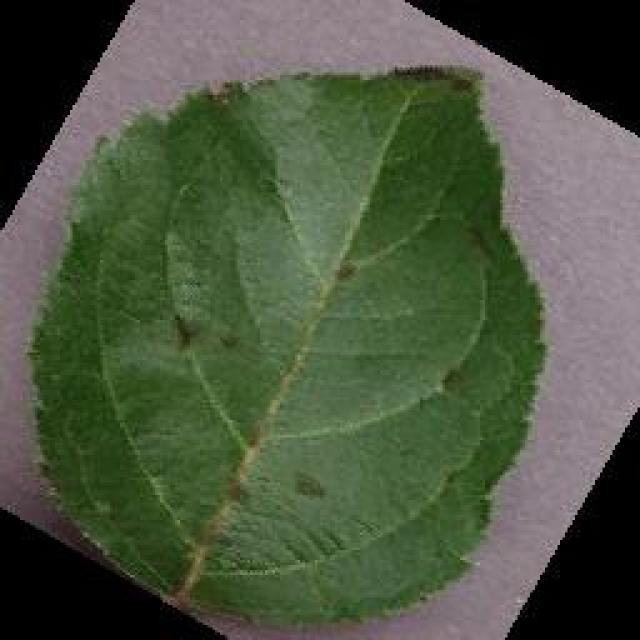apple scab disease: (22, 60, 550, 630)
